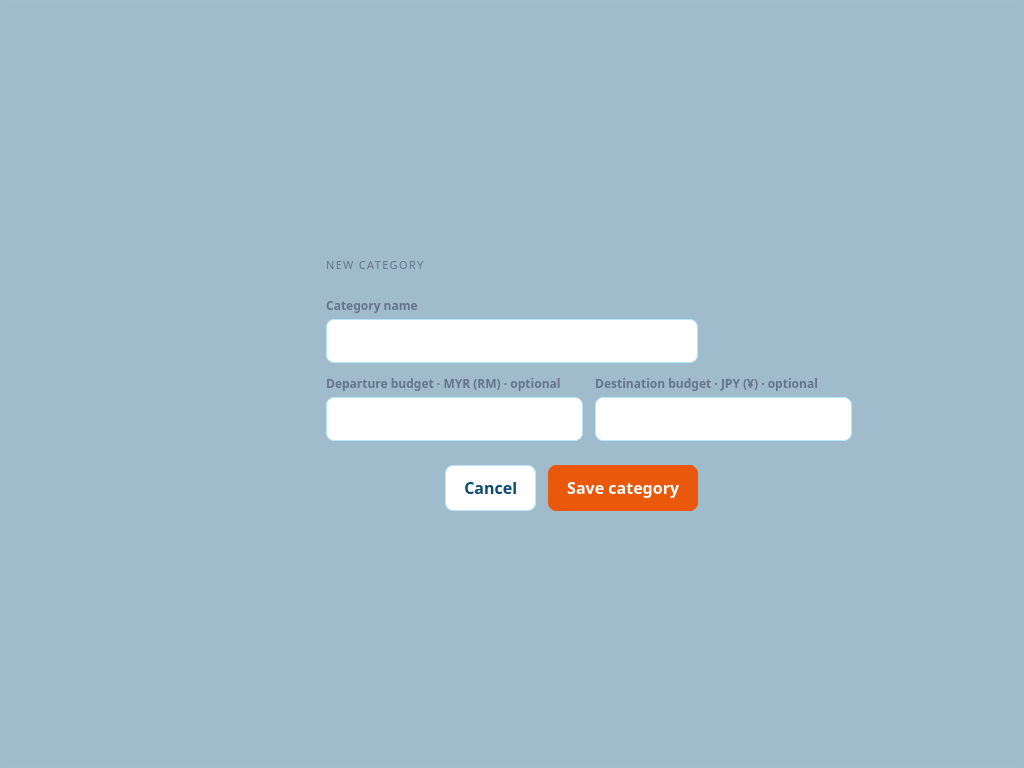
Scenario: CategoryEditorModal › blocks save without a name
This screenshot has width=1024, height=768.
Click the button "Save category".
click(623, 488)  # box x1=548 y1=465 x2=698 y2=511
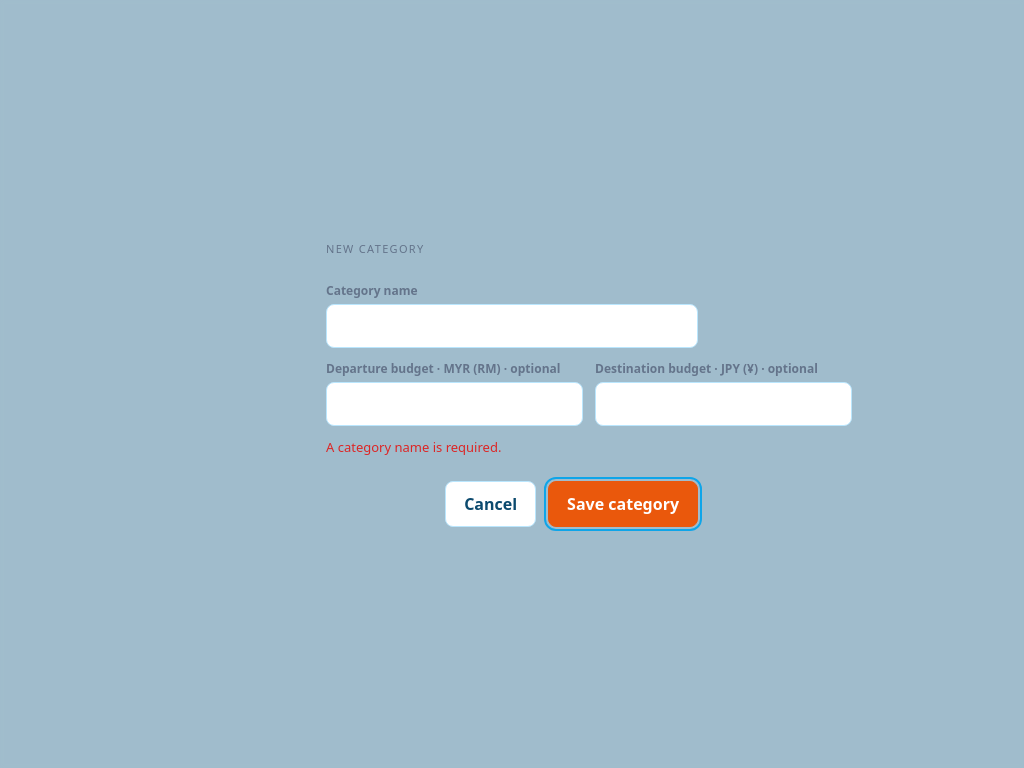
Now the message shows "name", box x1=326 y1=438 x2=501 y2=456
